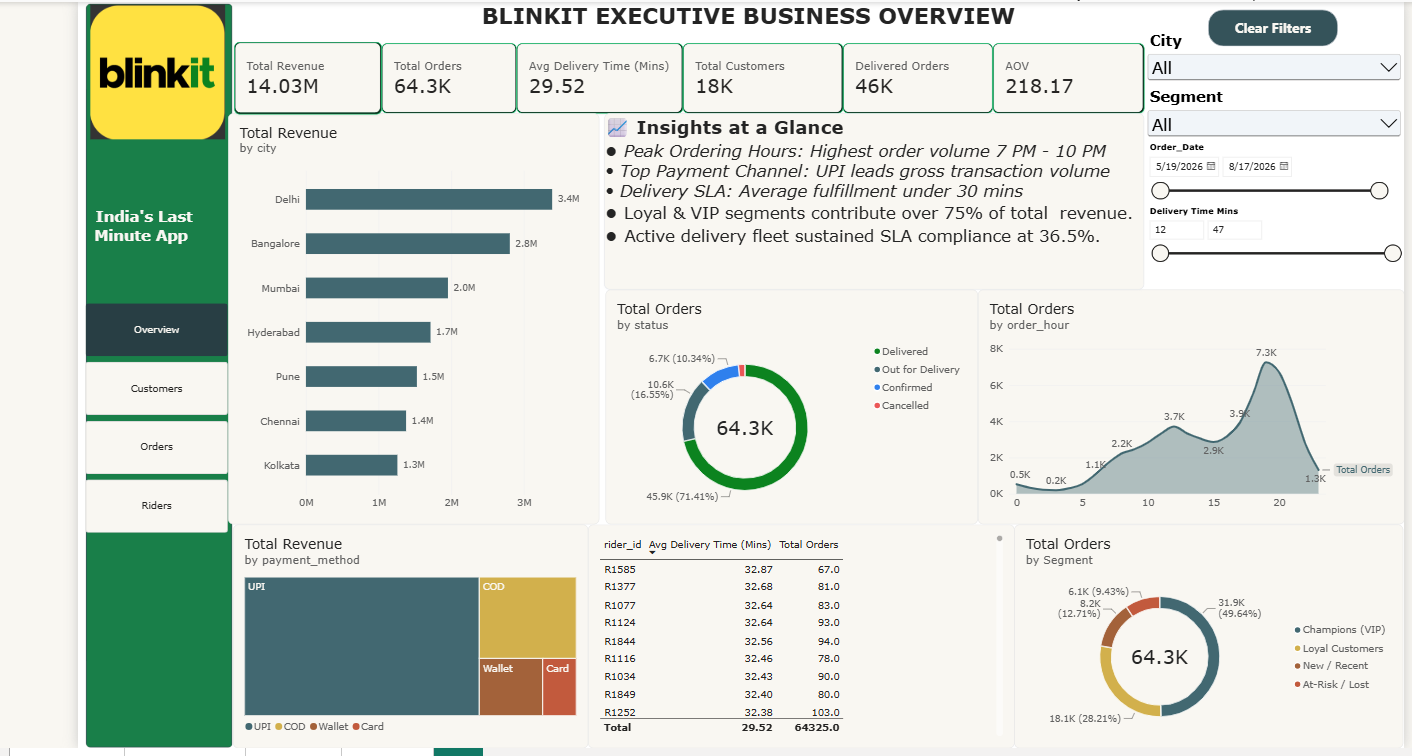

What the dashboard file says about the page in this screenshot:
{"tool":"powerbi","page":{"name":"Overview","canvas":[1920,1080],"ordinal":0},"visuals":[{"type":"shape","box":[10.9,1.8,213.5,1078.6],"z":0},{"type":"textbox","box":[9,0,213.5,1078.6],"z":1000},{"type":"textbox","box":[584.5,0,1053.2,63.3],"z":2000},{"type":"cardVisual","fields":{"Data":["Blinkit_PowerBI_Data.Total Orders"]},"box":[439.7,59.7,195.4,101.3],"z":3000},{"type":"cardVisual","fields":{"Data":["Blinkit_PowerBI_Data.AOV"]},"box":[1324.7,59.7,219,101.3],"z":4000},{"type":"cardVisual","fields":{"Data":["Blinkit_PowerBI_Data.Avg Delivery Time"]},"box":[635.2,59.7,240.7,101.3],"z":5000},{"type":"slicer","fields":{"Values":["Blinkit_PowerBI_Data.Segment"]},"box":[1543.9,123.5,376.4,76],"z":6000},{"type":"clusteredBarChart","fields":{"Category":["Blinkit_PowerBI_Data.city"],"Y":["Blinkit_PowerBI_Data.Total Revenue"]},"box":[217.5,160.2,537.5,595.4],"z":7000},{"type":"donutChart","fields":{"Category":["Blinkit_PowerBI_Data.Segment"],"Y":["Blinkit_PowerBI_Data.Total Orders"]},"box":[1355.4,756.4,563.5,323.8],"z":8000},{"type":"treemap","fields":{"Group":["Blinkit_PowerBI_Data.payment_method"],"Values":["Blinkit_PowerBI_Data.Total Revenue"]},"box":[224.9,756.3,514.1,323.8],"z":9000},{"type":"lineChart","fields":{"Category":["Blinkit_PowerBI_Data.order_hour"],"Y":["Blinkit_PowerBI_Data.Total Orders"]},"box":[1302.4,416.4,617.6,340],"z":10000},{"type":"cardVisual","fields":{"Data":["Blinkit_PowerBI_Data.Total Customers"]},"box":[875.9,59.7,231.6,101.3],"z":11000},{"type":"cardVisual","fields":{"Data":["Blinkit_PowerBI_Data.Total Revenue"]},"box":[226.2,57.9,213.5,105],"z":12000},{"type":"cardVisual","fields":{"Data":["Blinkit_PowerBI_Data.Delivered Orders"]},"box":[1107.5,59.7,217.2,101.3],"z":13000},{"type":"donutChart","fields":{"Category":["Blinkit_PowerBI_Data.status"],"Y":["Blinkit_PowerBI_Data.Total Orders"]},"box":[763.7,416.2,539.3,340.2],"z":14000},{"type":"tableEx","fields":{"Values":["Blinkit_PowerBI_Data.rider_id","Blinkit_PowerBI_Data.Avg Delivery Time","Blinkit_PowerBI_Data.Total Orders"]},"box":[738.3,756.4,617.6,323.9],"z":15000},{"type":"textbox","box":[761.9,161.1,781.8,255.2],"z":16000},{"type":"slicer","fields":{"Values":["Blinkit_PowerBI_Data.city"]},"box":[1543.9,42.1,376.4,85.1],"z":17000},{"type":"pageNavigator","box":[10.9,436.1,206.3,333],"z":18000},{"type":"slicer","fields":{"Values":["Blinkit_PowerBI_Data.order_date"]},"box":[1543.9,202.1,356.5,101.1],"z":19000},{"type":"slicer","fields":{"Values":["Blinkit_PowerBI_Data.delivery_time_mins"]},"box":[1543.9,294.7,376.1,120.7],"z":20000},{"type":"actionButton","box":[1636.5,11.2,188.1,53.3],"z":21000},{"type":"image","box":[9,3.6,213.5,195.4],"z":22000}]}

Visuals, with their boxes on the page's 1920x1080 design canvas (x1, y1, x2, y2). These are canvas units, not pixel positions in the 1412x756 screenshot, which may show the page scaled, cropped or inside an application window:
shape: l=11, t=2, r=224, b=1080
textbox: l=9, t=0, r=222, b=1079
textbox: l=584, t=0, r=1638, b=63
cardVisual - Blinkit_PowerBI_Data.Total Orders: l=440, t=60, r=635, b=161
cardVisual - Blinkit_PowerBI_Data.AOV: l=1325, t=60, r=1544, b=161
cardVisual - Blinkit_PowerBI_Data.Avg Delivery Time: l=635, t=60, r=876, b=161
slicer - Blinkit_PowerBI_Data.Segment: l=1544, t=124, r=1920, b=200
clusteredBarChart - Blinkit_PowerBI_Data.city x Blinkit_PowerBI_Data.Total Revenue: l=218, t=160, r=755, b=756
donutChart - Blinkit_PowerBI_Data.Segment x Blinkit_PowerBI_Data.Total Orders: l=1355, t=756, r=1919, b=1080
treemap - Blinkit_PowerBI_Data.payment_method x Blinkit_PowerBI_Data.Total Revenue: l=225, t=756, r=739, b=1080
lineChart - Blinkit_PowerBI_Data.order_hour x Blinkit_PowerBI_Data.Total Orders: l=1302, t=416, r=1920, b=756
cardVisual - Blinkit_PowerBI_Data.Total Customers: l=876, t=60, r=1108, b=161
cardVisual - Blinkit_PowerBI_Data.Total Revenue: l=226, t=58, r=440, b=163
cardVisual - Blinkit_PowerBI_Data.Delivered Orders: l=1108, t=60, r=1325, b=161
donutChart - Blinkit_PowerBI_Data.status x Blinkit_PowerBI_Data.Total Orders: l=764, t=416, r=1303, b=756
tableEx - Blinkit_PowerBI_Data.rider_id x Blinkit_PowerBI_Data.Avg Delivery Time: l=738, t=756, r=1356, b=1080
textbox: l=762, t=161, r=1544, b=416
slicer - Blinkit_PowerBI_Data.city: l=1544, t=42, r=1920, b=127
pageNavigator: l=11, t=436, r=217, b=769
slicer - Blinkit_PowerBI_Data.order_date: l=1544, t=202, r=1900, b=303
slicer - Blinkit_PowerBI_Data.delivery_time_mins: l=1544, t=295, r=1920, b=415
actionButton: l=1636, t=11, r=1825, b=64
image: l=9, t=4, r=222, b=199
